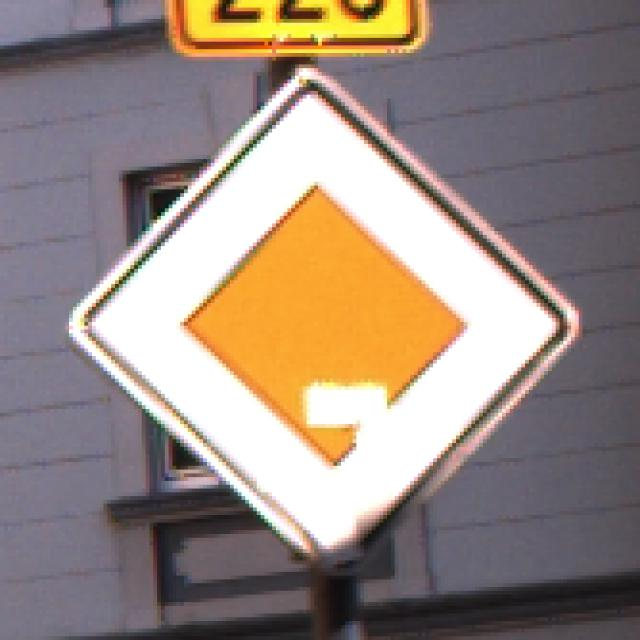Main Road: (59, 58, 588, 588)
